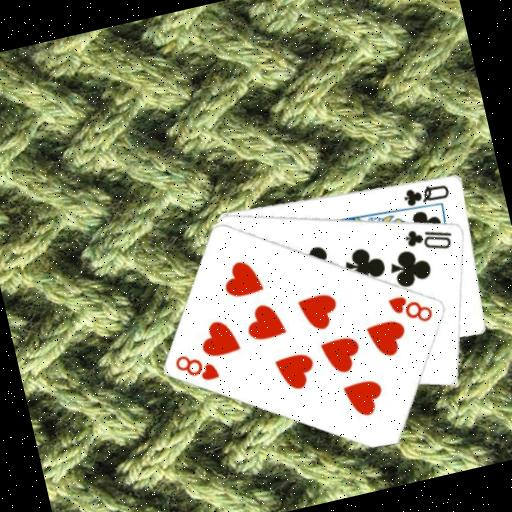10C: (400, 218, 457, 259)
8H: (385, 286, 437, 331), (171, 344, 223, 389)
QC: (398, 177, 452, 209)
